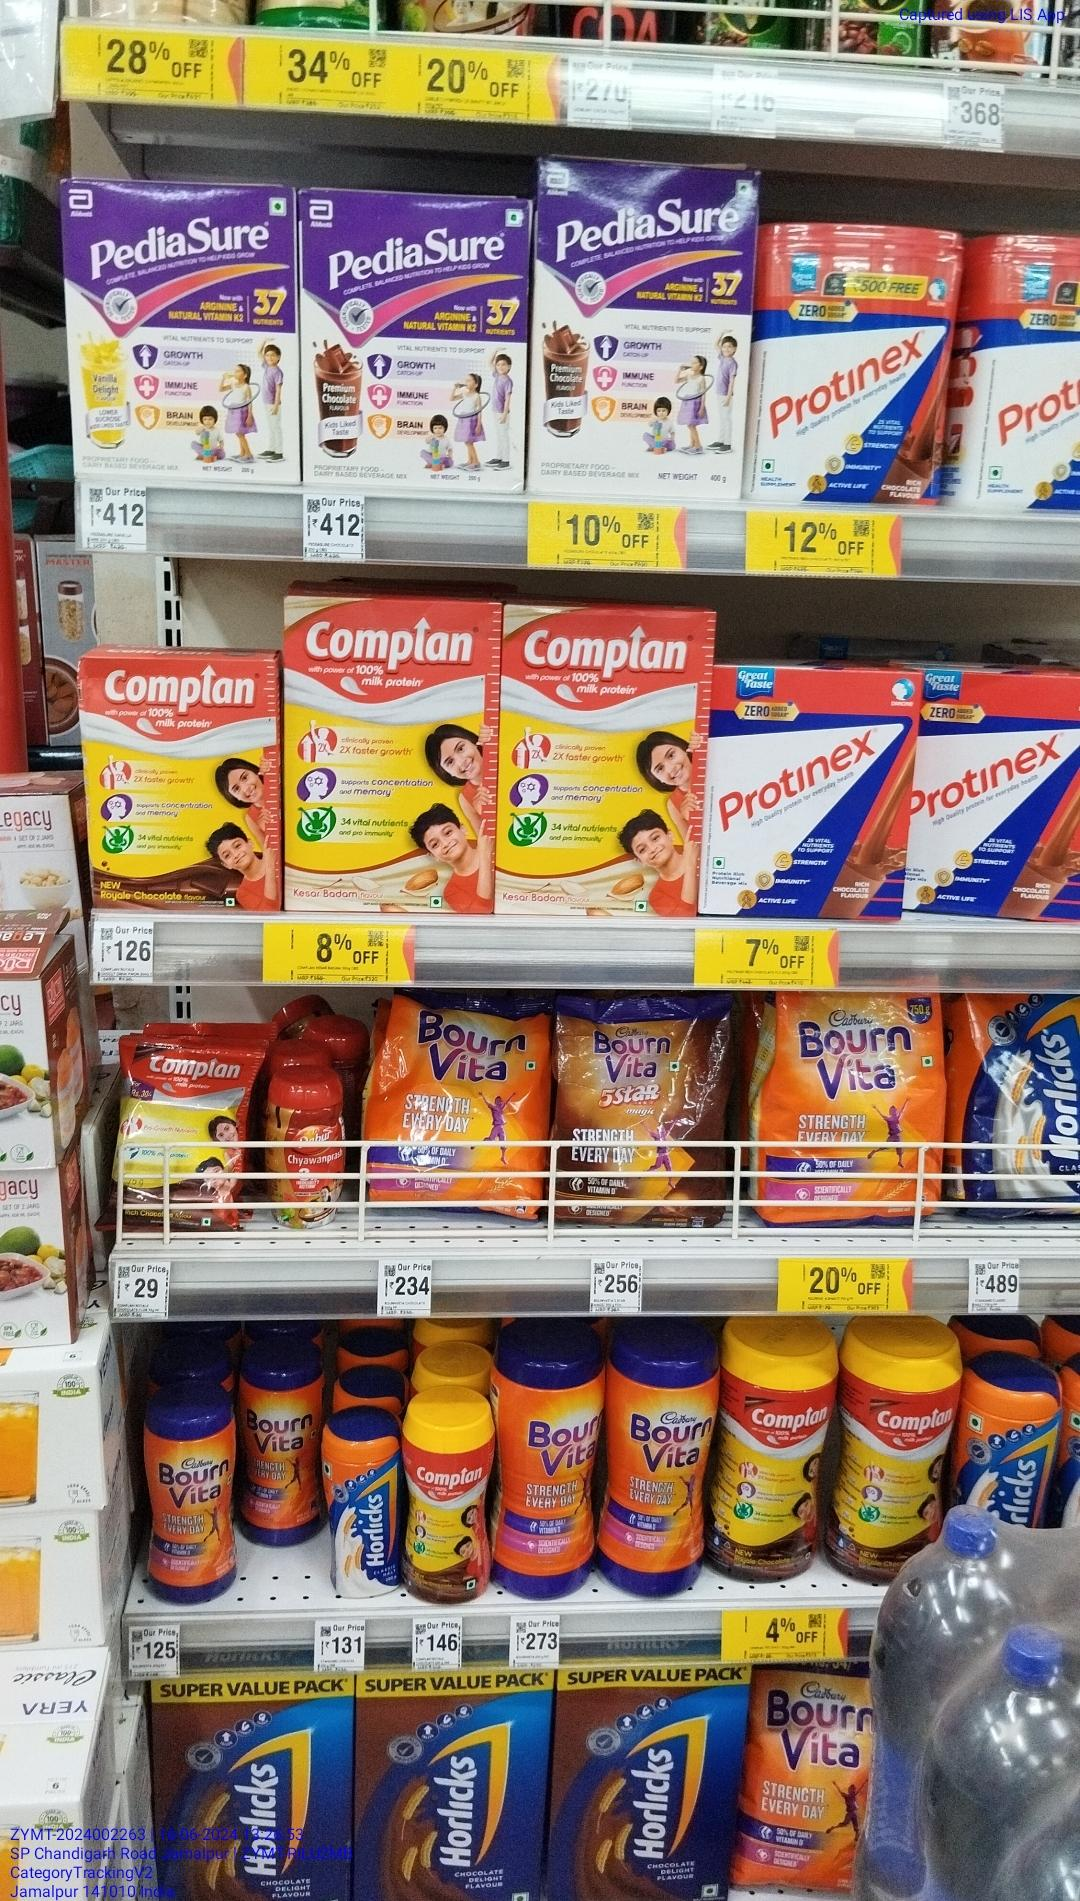BOURN_VITA_200_G_JAR: (144, 1404, 240, 1612), (244, 1358, 323, 1550)
BOURN_VITA_500_G_JAR: (496, 1357, 605, 1599), (610, 1347, 713, 1601)
BOURN_VITA_500_G_POUCH: (377, 994, 550, 1221), (556, 1001, 723, 1229)
BOURN_VITA_750_G_POUCH: (769, 971, 940, 1223)
COMPLAN_CHOCOLATE_200_GMS_JAR: (407, 1427, 491, 1610)
COMPLAN_CHOCOLATE_500_GMS_JAR: (845, 1346, 961, 1585), (725, 1343, 833, 1588)
HORLICK_CLASSIC_MALT_200_G_JAR: (329, 1432, 402, 1601)
HORLICK_CLASSIC_MALT_750_G_POUCH: (953, 973, 1080, 1210)
